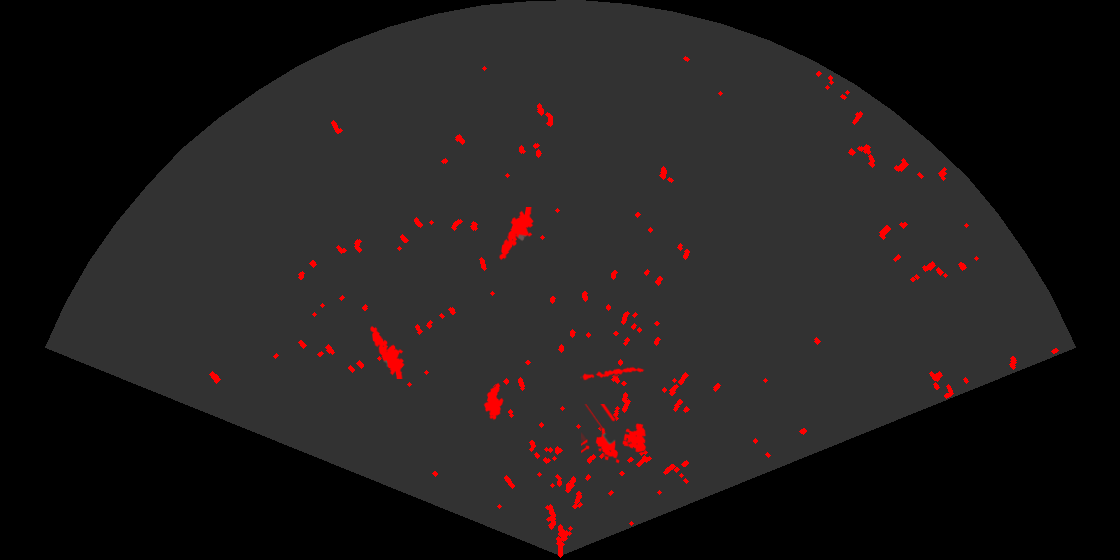AUV: (482, 381, 505, 422)
cage: (581, 404, 648, 465)
chain: (580, 365, 645, 382)
frogman: (498, 207, 535, 262), (369, 324, 406, 379)
